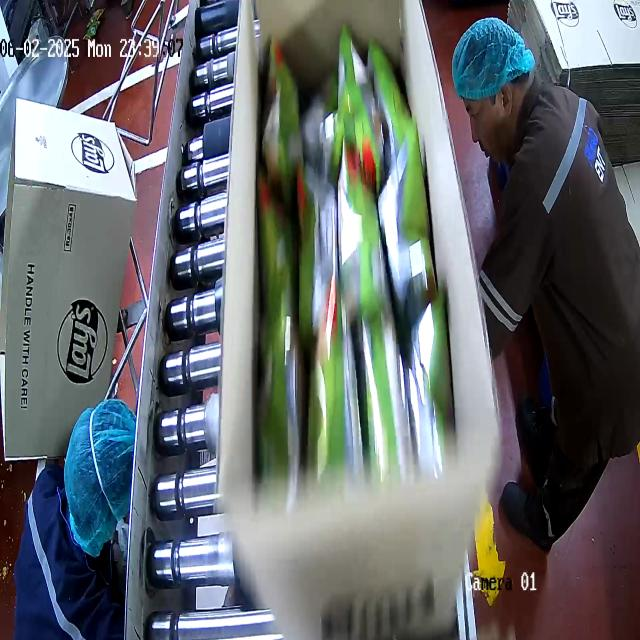YOGURT_HERB: (259, 47, 436, 476)
